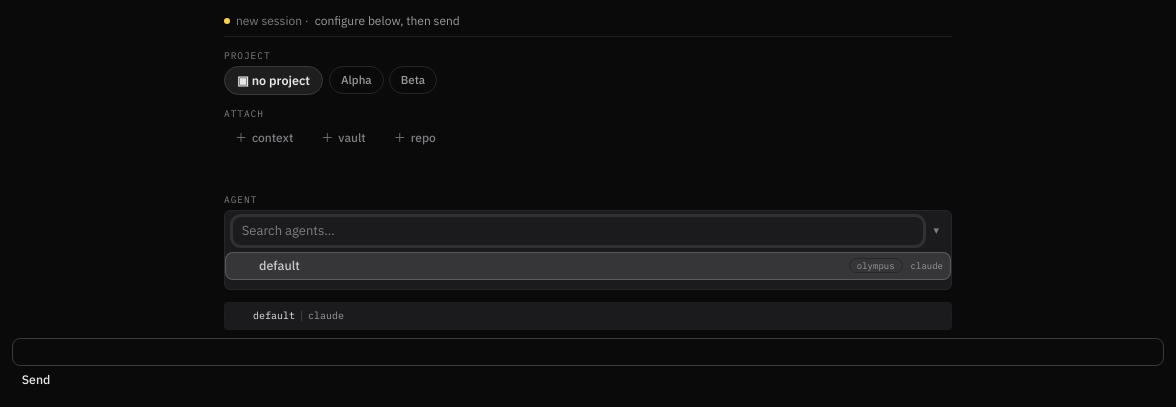
Test: DraftSession › filters agents by search query
Check: the option with aria-label "default on olympus" is shown, box [225,252,951,280]
// Search for something that doesn't match
Type "zzz" into the field labelled "Search agents". click: (578, 231)
box: [233,217,924,245]
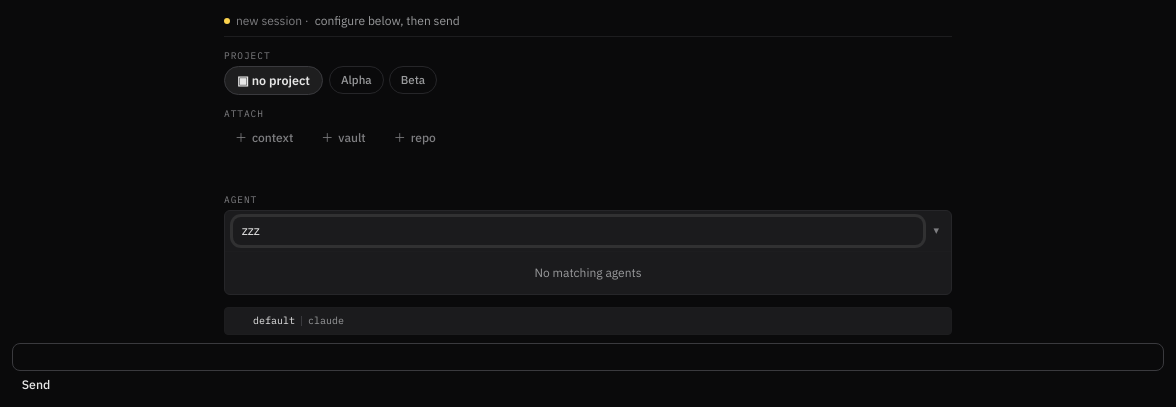
Check: the text "No matching agents" is shown, box [534,265,642,280]
